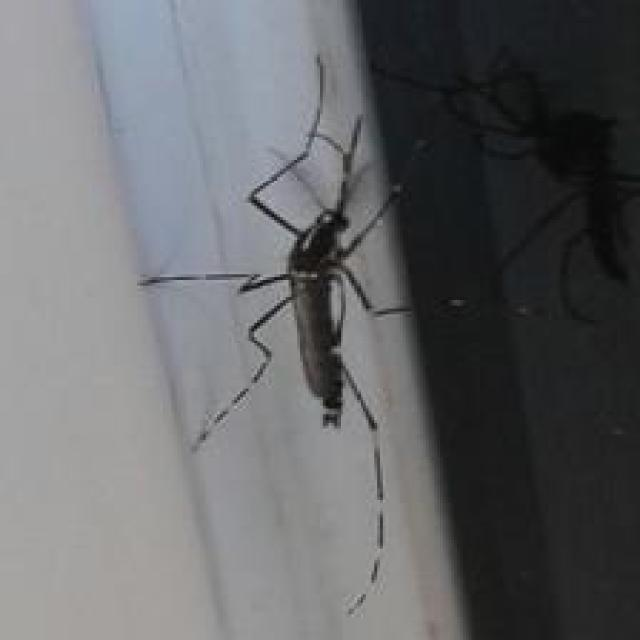Aedes albopictus: (136, 52, 430, 617)
